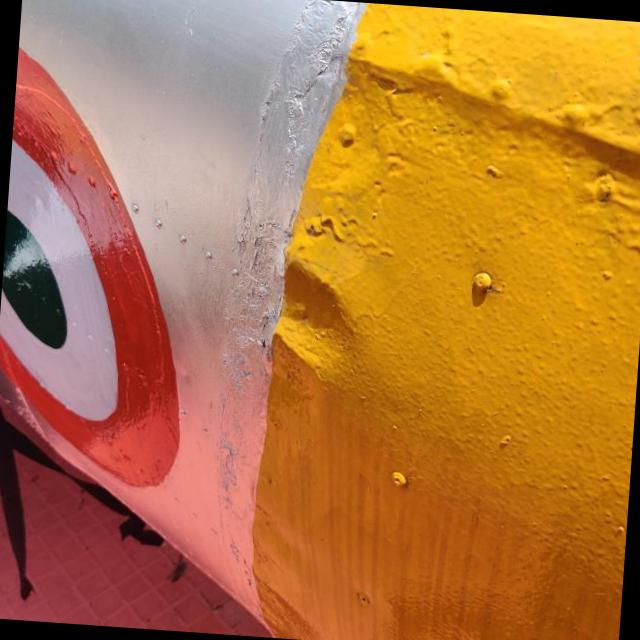Dent: (275, 260, 357, 389)
